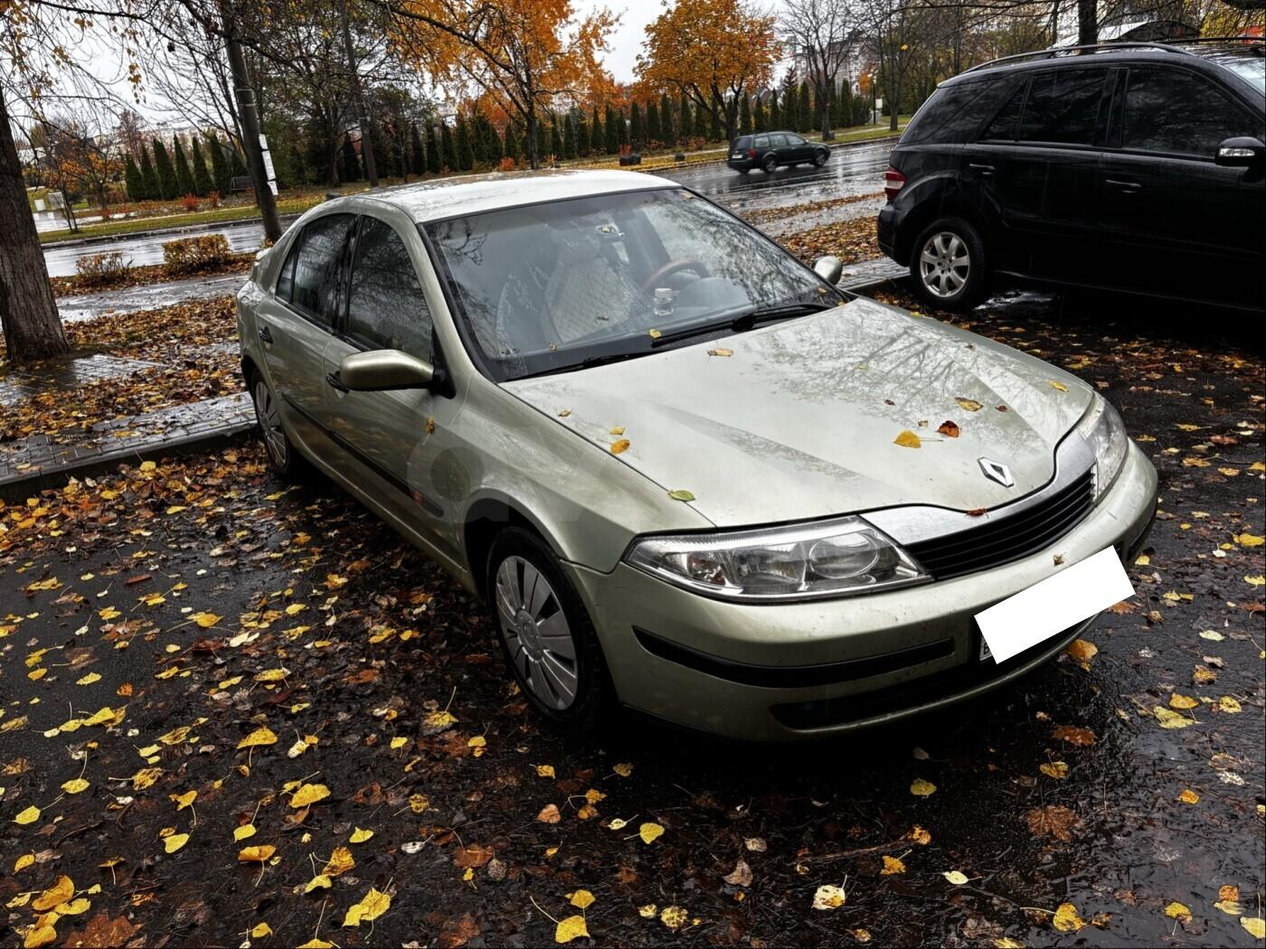Laguna_2001-2005: (237, 172, 1156, 740)
